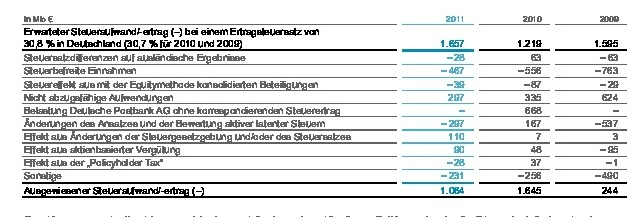table: (0, 0, 642, 217)
